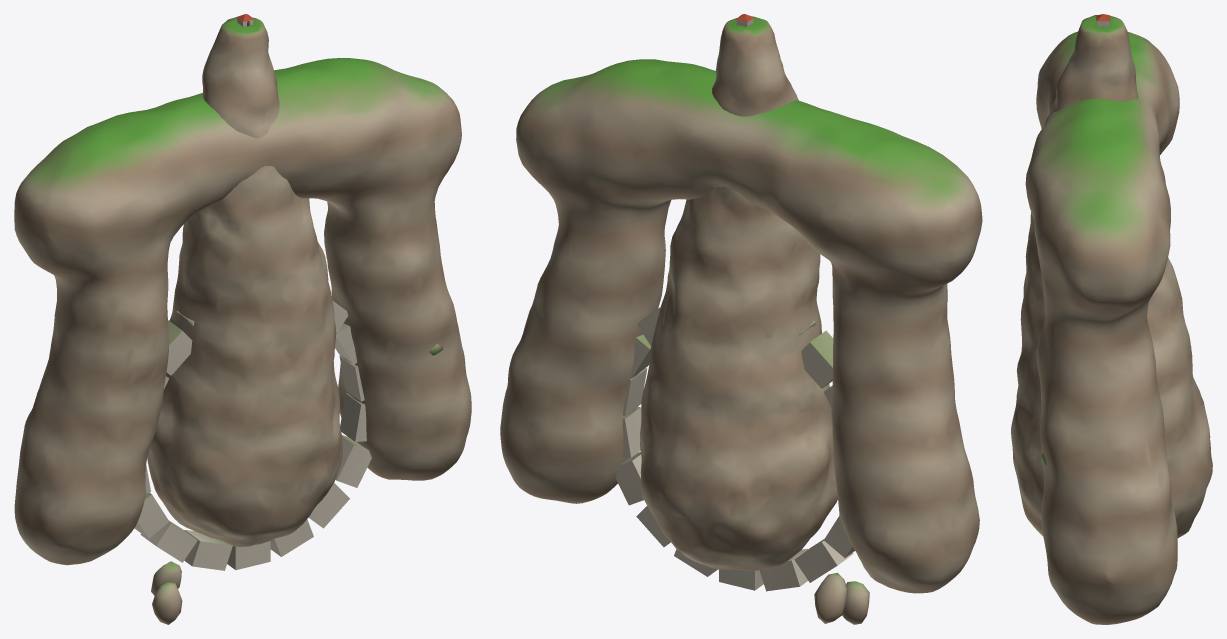
The model's file is architecture.glb.
3 renders of one model, left to right at view 1: azimuth 30°, elevation 25°; view 2: azimuth 150°, elevation 25°; view 3: azimuth 270°, elevation 25°, orthographic. The views are drawn at different scales.
Visible parts, largest first — view 1: arch_lod0, needle_lod0, ring_lod0; view 2: arch_lod0, needle_lod0, ring_lod0; view 3: arch_lod0, needle_lod0.
Part boxes in pixels (left/top/right/bottom): arch_lod0: left=14, top=58, right=471, bottom=565; needle_lod0: left=147, top=14, right=342, bottom=546; ring_lod0: left=134, top=301, right=442, bottom=624; arch_lod0: left=500, top=59, right=982, bottom=593; needle_lod0: left=640, top=14, right=837, bottom=571; ring_lod0: left=615, top=307, right=869, bottom=624; arch_lod0: left=1025, top=31, right=1179, bottom=624; needle_lod0: left=1011, top=14, right=1212, bottom=537.
Size of what is drawn, in the model's own units: 263 by 326 by 101.
